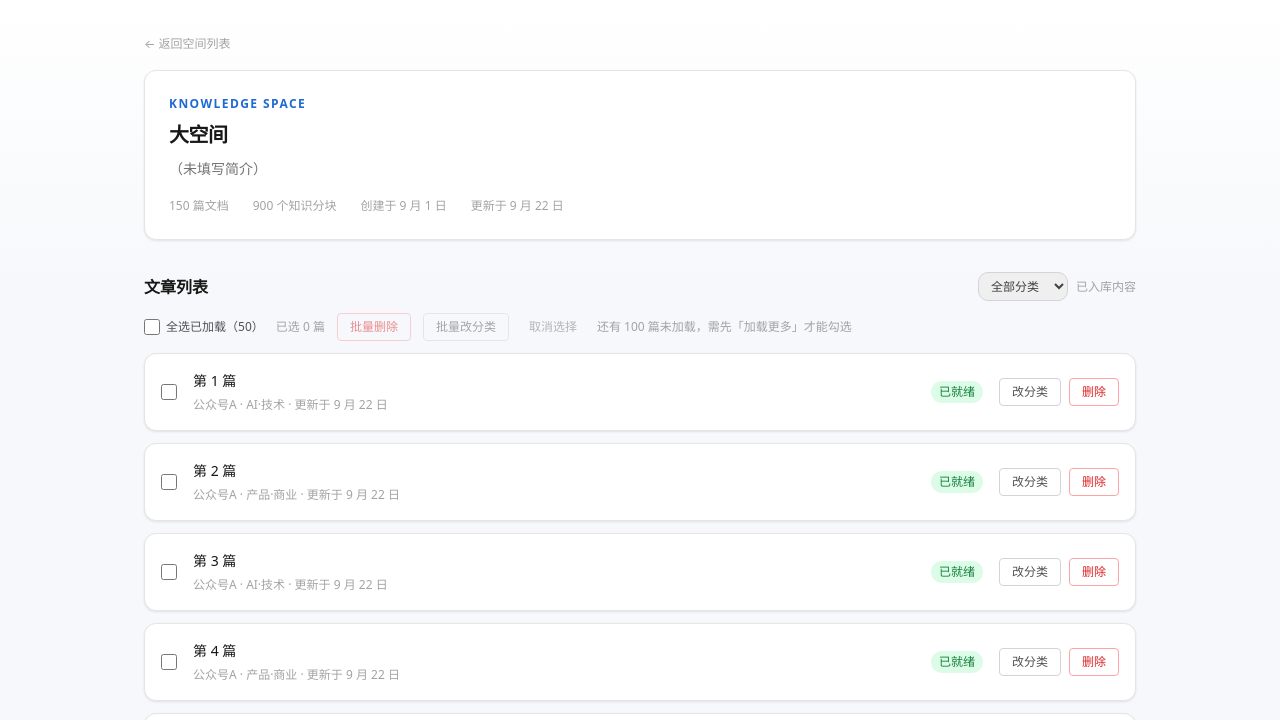
Scenario: R0.1.4 空态不得误报（客户端过滤时代的核心错报） › 150 篇的空间选了个空的分类 → 指明分类为空，不得报成「该空间还没有文章」
This screenshot has width=1280, height=720.
Select "其他" in the dropdown named "按分类筛选" at (1023, 286), box [978,272,1068,301]
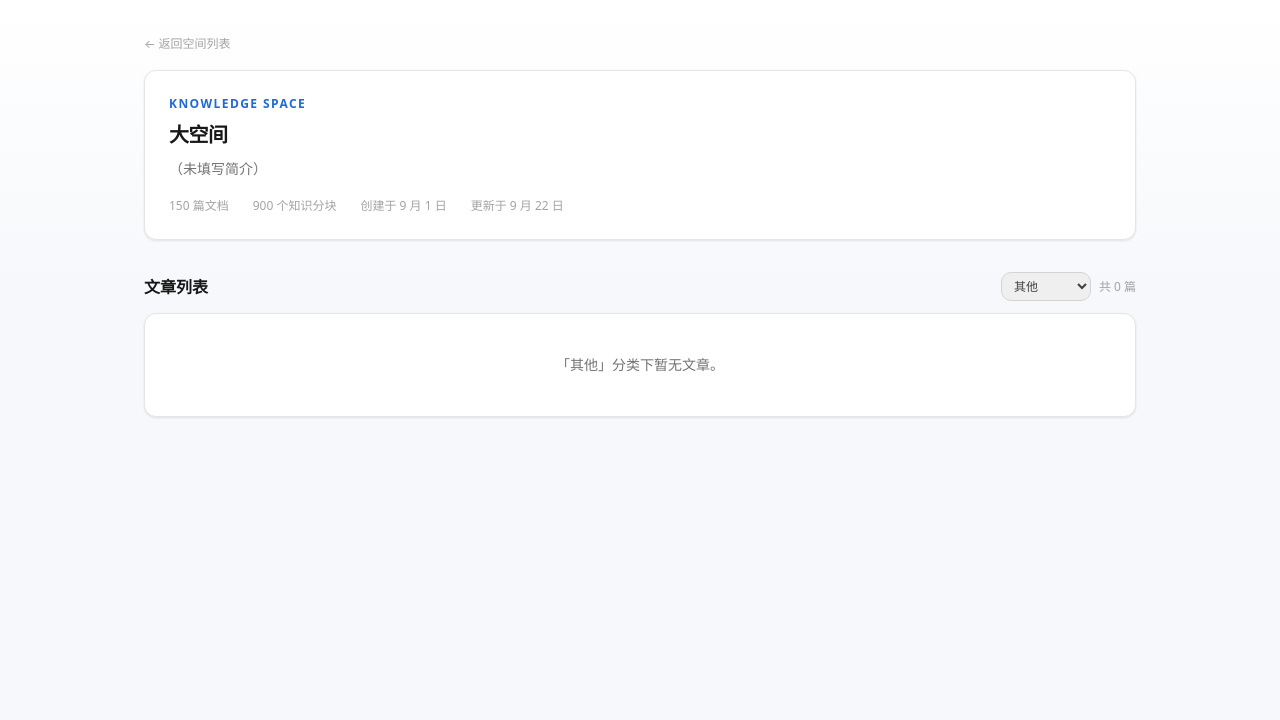
Expected: the text "「其他」分类下暂无文章。" is shown, [144,313,1136,417]
